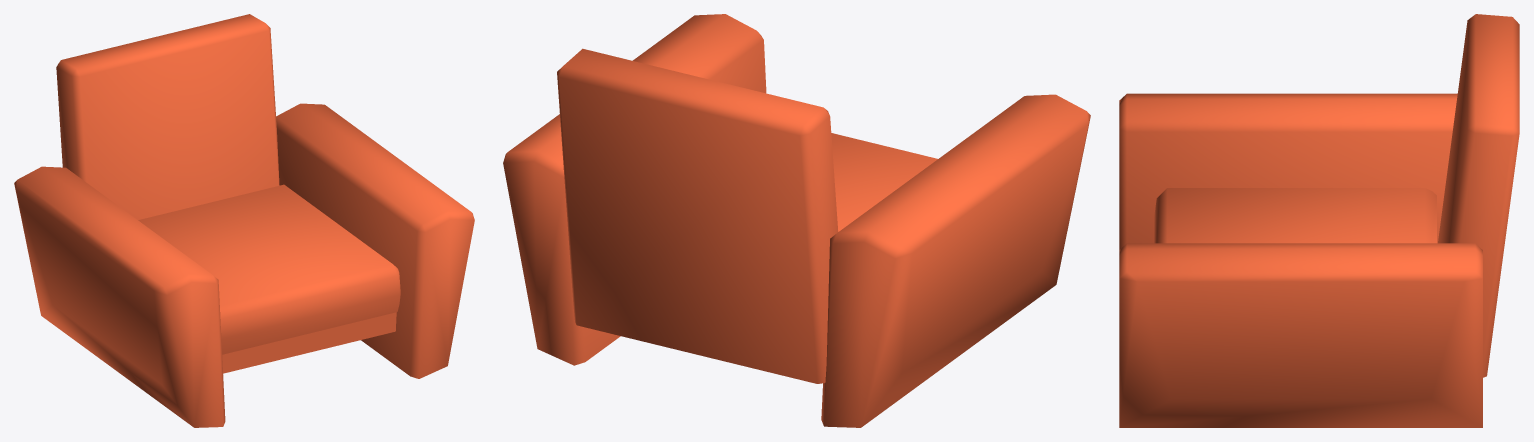
Rendered from Sofa_Chair_M_01.fbx.
The picture shows the model from 3 angles, left to right: view 1: azimuth 30°, elevation 25°; view 2: azimuth 150°, elevation 25°; view 3: azimuth 270°, elevation 25°; orthographic projection. The views are drawn at different scales.
Visible parts, largest first — view 1: Sofa_Chair_M_01; view 2: Sofa_Chair_M_01; view 3: Sofa_Chair_M_01.
Part boxes in pixels (<box>): Sofa_Chair_M_01: <box>14,14,474,427</box>; Sofa_Chair_M_01: <box>503,14,1090,427</box>; Sofa_Chair_M_01: <box>1119,14,1519,427</box>.
Bounding box in the file's own units: 103 × 76.69 × 94.91.
Materials: 1 (1 with a texture image).
